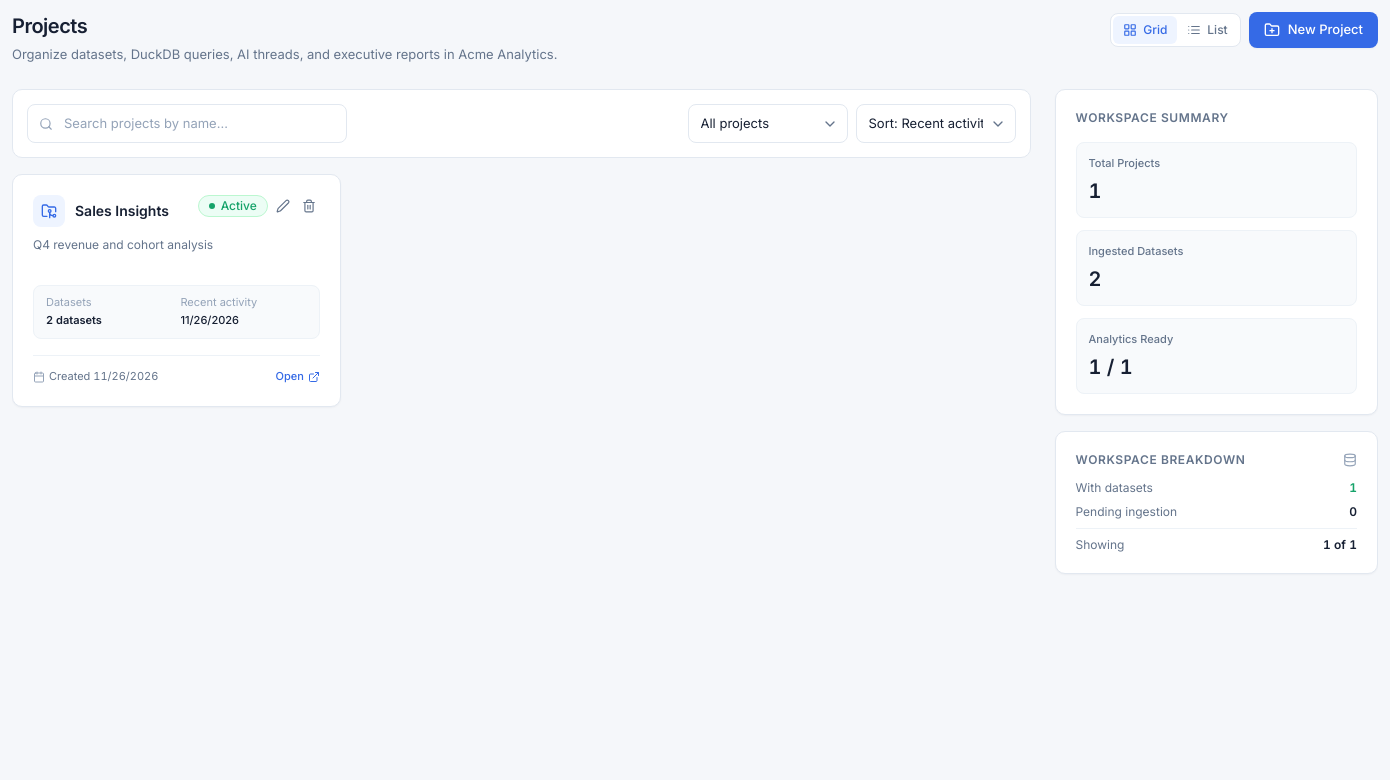
Stage 2 Dashboard, Projects, Data Sources & Upload › ProjectsPage switches smoothly between Grid and List views with real dataset metadata
Check: the link "Sales Insights" is shown, box x1=75 y1=201 x2=169 y2=221
Check: the text "2 datasets" is shown, box x1=46 y1=313 x2=102 y2=327
Click the button "List" at (1208, 30), box x1=1177 y1=16 x2=1238 y2=44
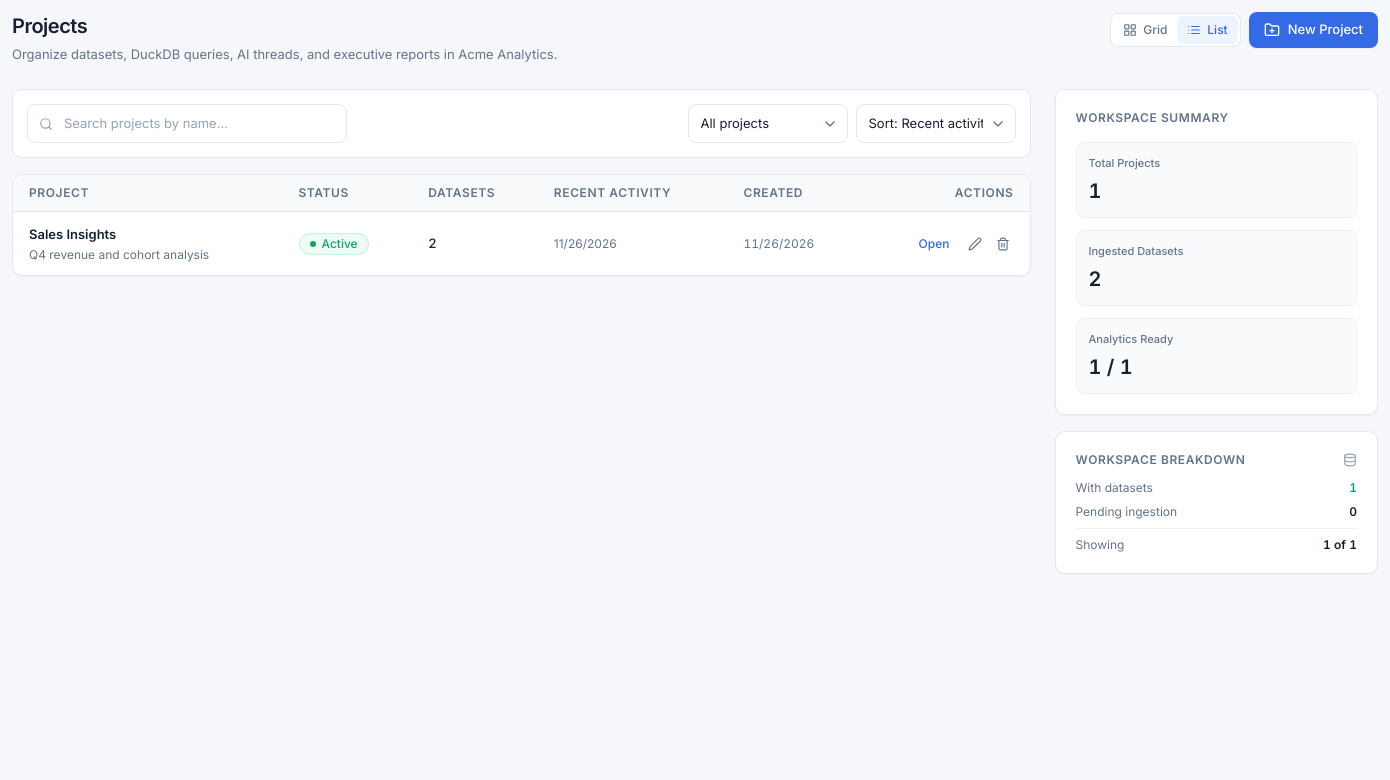
Check: the link "Sales Insights" is shown, box x1=29 y1=226 x2=116 y2=242
Check: the table is shown, box x1=13 y1=175 x2=1030 y2=275
